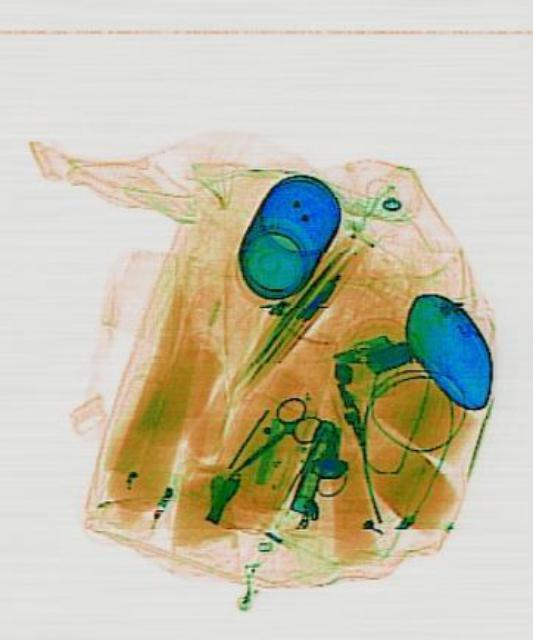Scissors: (215, 384, 326, 494)
